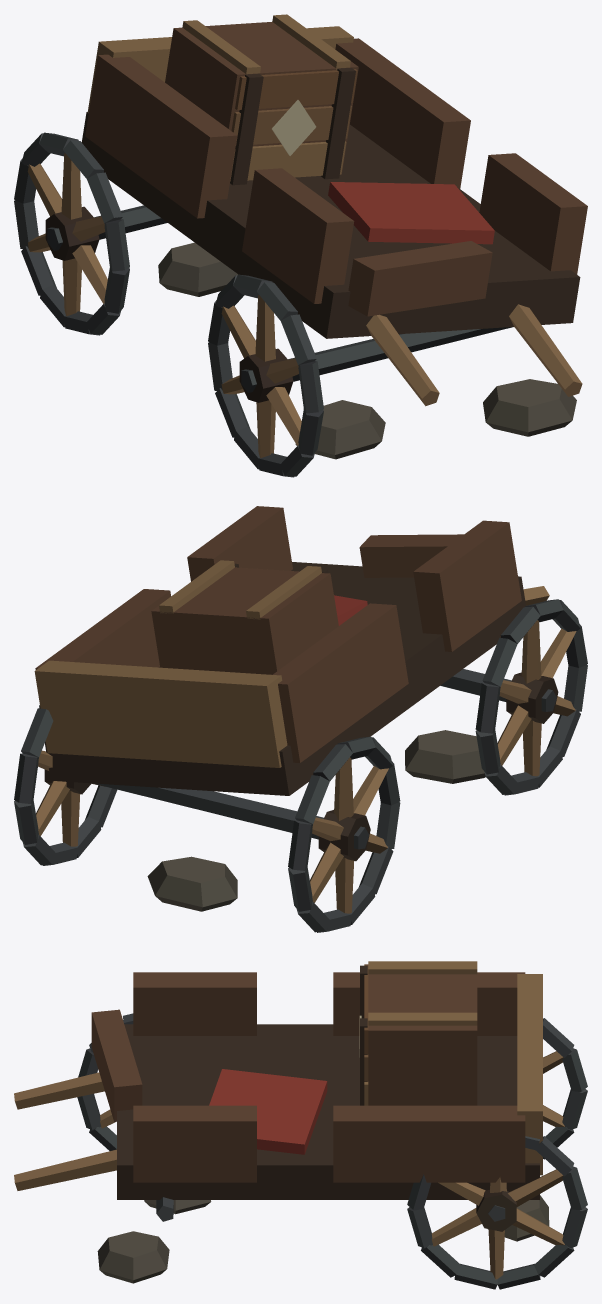
The model's file is broken-wagon.glb.
3 views of the same model, one above another, from view 1: azimuth 30°, elevation 25°; view 2: azimuth 150°, elevation 25°; view 3: azimuth 270°, elevation 25° (orthographic). The views are drawn at different scales.
Parts seen in each view (by area): view 1: Broken supply wagon; view 2: Broken supply wagon; view 3: Broken supply wagon.
Part boxes in pixels (bbox=[...]): Broken supply wagon: bbox=[14, 14, 587, 477]; Broken supply wagon: bbox=[14, 506, 587, 932]; Broken supply wagon: bbox=[14, 961, 587, 1289].
Bounding box in the file's own units: 0.9801 × 0.8494 × 1.76.
